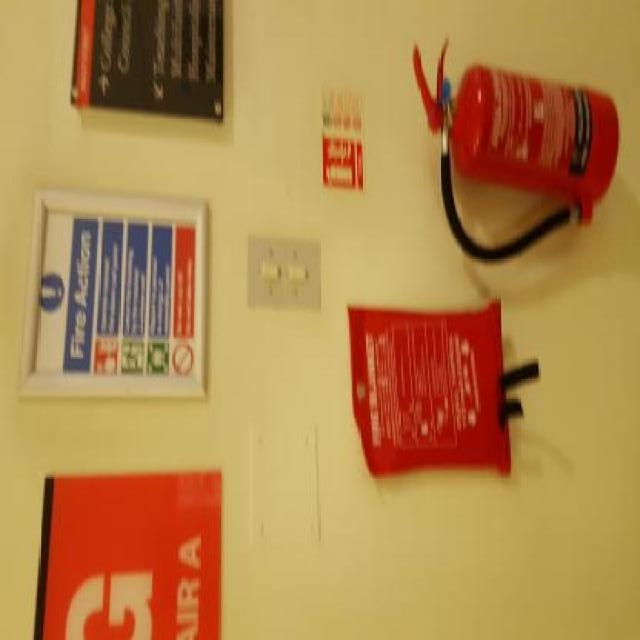fire extinguisher: (408, 34, 624, 269)
